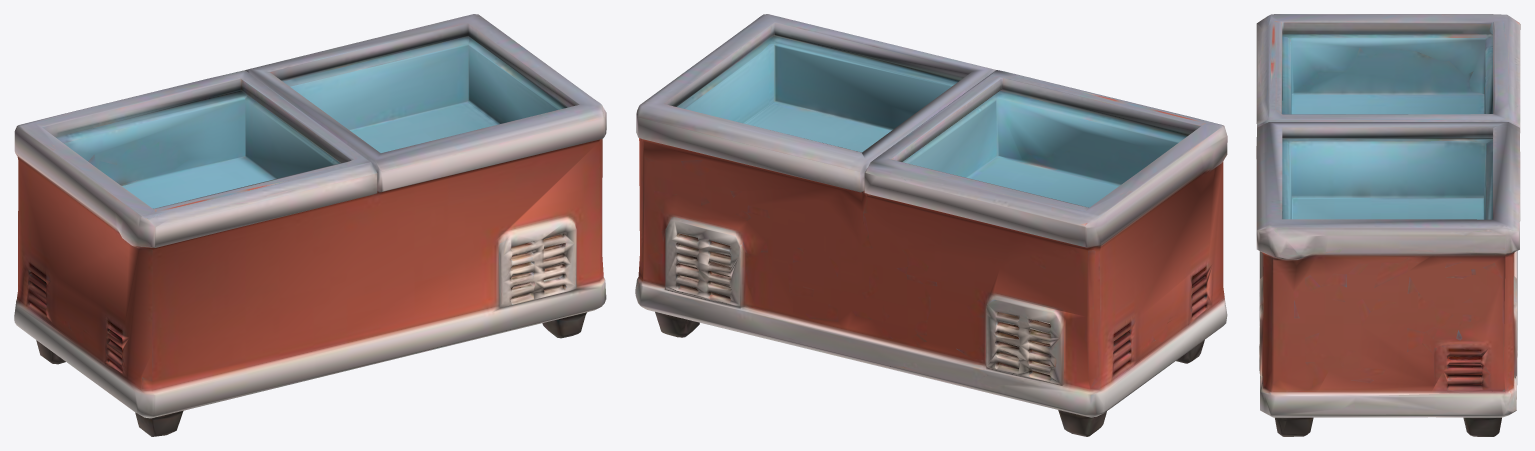
Rendered from bingui-2.glb.
The picture shows the model from 3 angles, left to right: view 1: azimuth 30°, elevation 25°; view 2: azimuth 150°, elevation 25°; view 3: azimuth 270°, elevation 25°; orthographic projection. The views are drawn at different scales.
Visible parts, largest first — view 1: node_0; view 2: node_0; view 3: node_0.
Boxes of the visible parts, left/top/right/bottom form: node_0: left=14, top=14, right=606, bottom=436; node_0: left=635, top=14, right=1227, bottom=436; node_0: left=1256, top=14, right=1520, bottom=436.
Bounding box in the file's own units: 1.02 × 0.4773 × 0.5217.
1 material, 1 textured.
